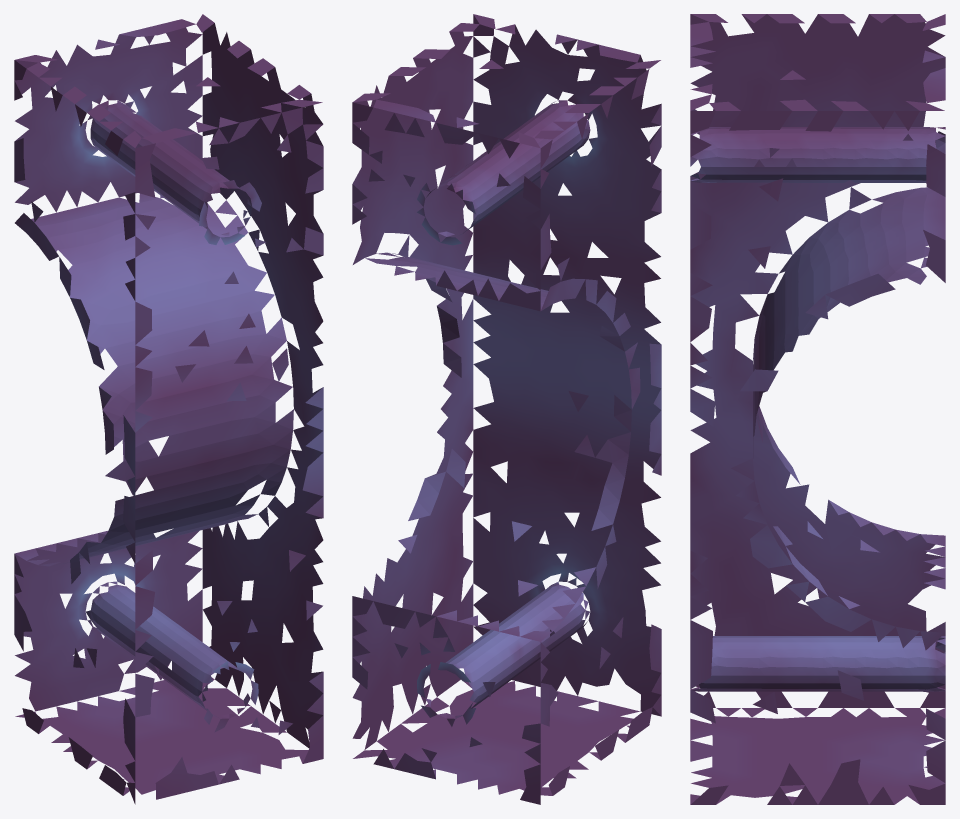
The picture shows the model from 3 angles, left to right: view 1: azimuth 30°, elevation 25°; view 2: azimuth 150°, elevation 25°; view 3: azimuth 270°, elevation 25°; orthographic projection. The views are drawn at different scales.
Visible parts, largest first — view 1: geometry_0; view 2: geometry_0; view 3: geometry_0.
Part boxes in pixels (left/top/right/bottom): geometry_0: left=14, top=14, right=323, bottom=804; geometry_0: left=352, top=14, right=661, bottom=804; geometry_0: left=690, top=14, right=945, bottom=804.
Bounding box in the file's own units: 18 × 60 × 20.
